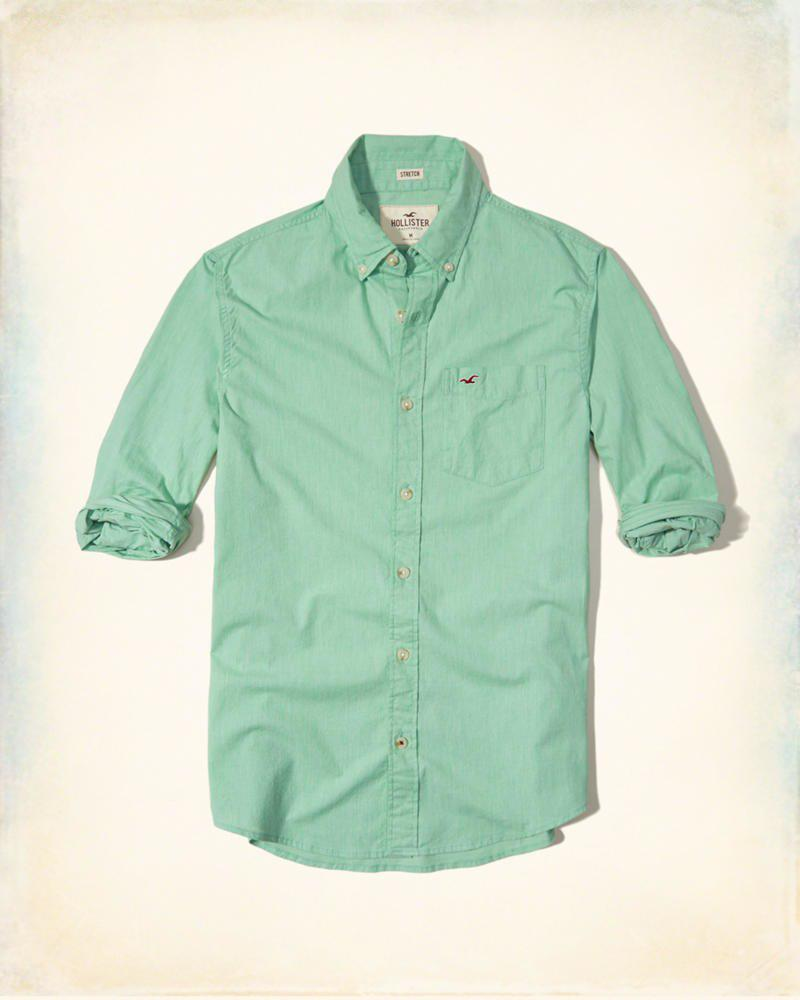teeshirt: (58, 127, 727, 881)
